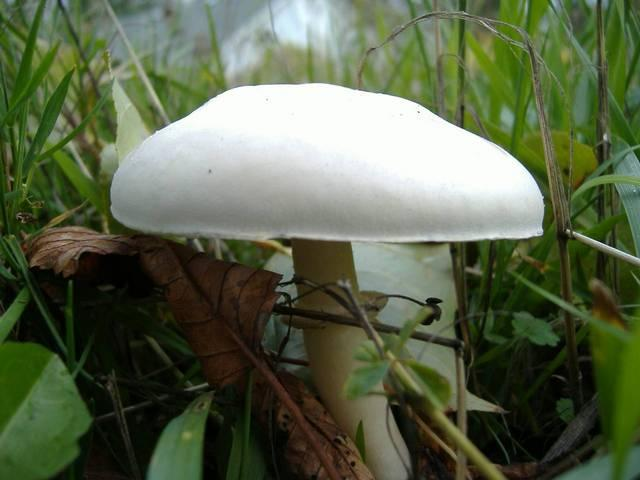Non-edible Mushroom: (108, 80, 545, 479)
